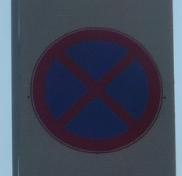No Parking: (32, 28, 164, 155)
